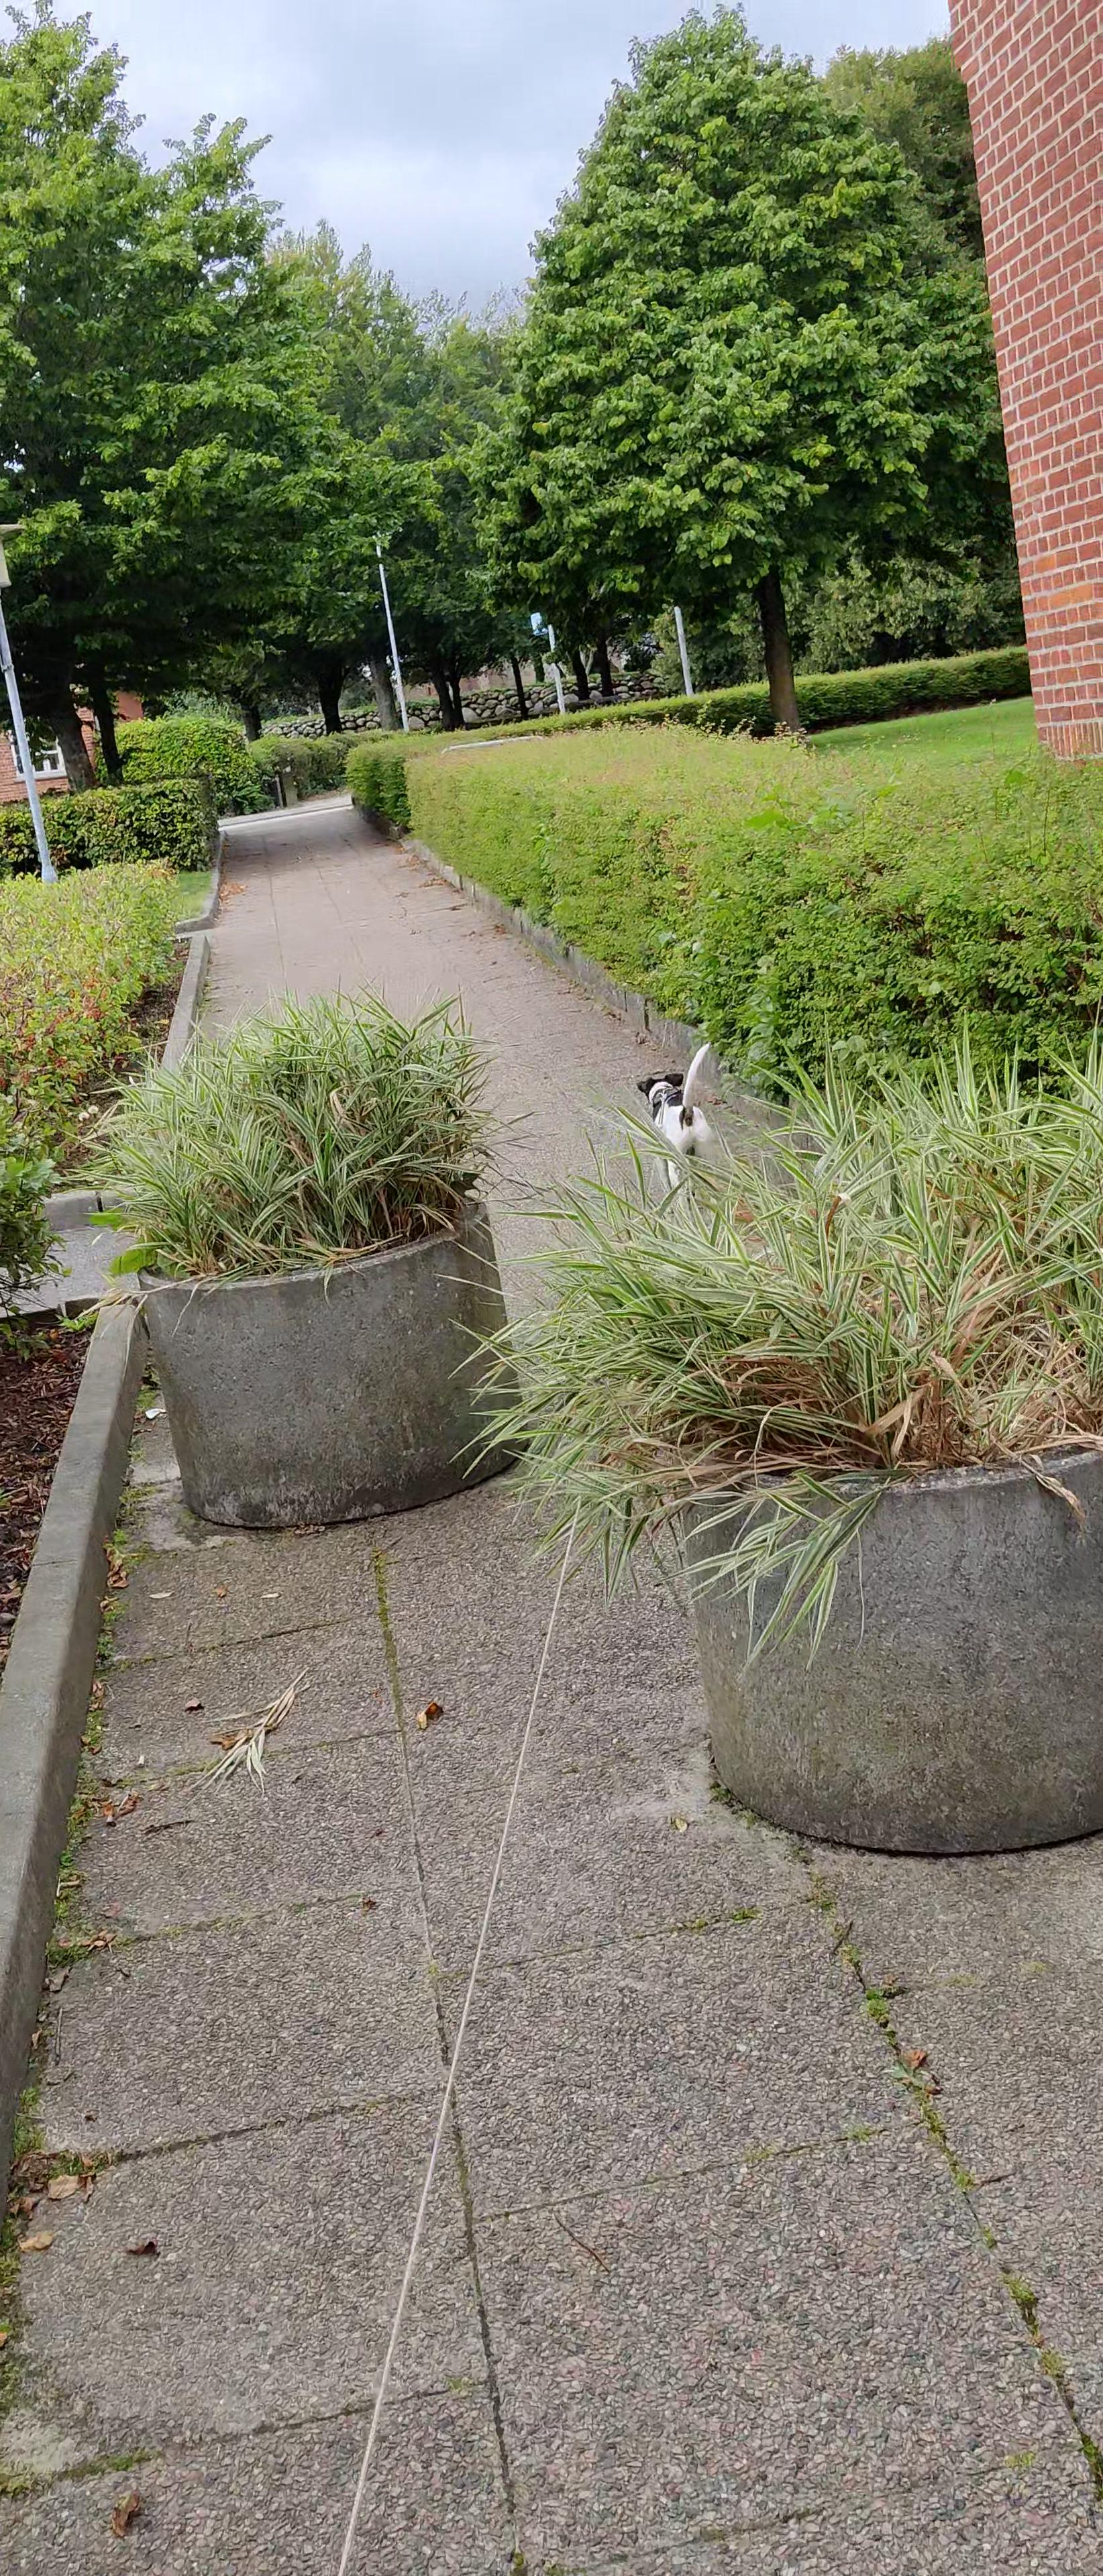Dog: (633, 1038, 720, 1209)
